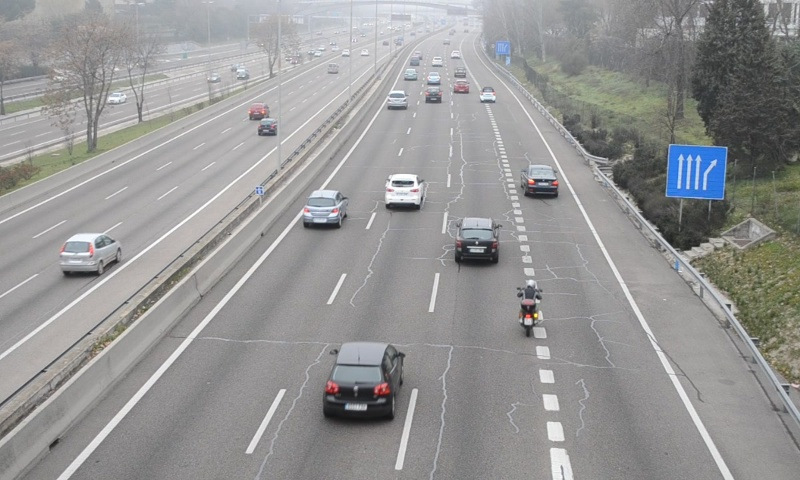car: (323, 343, 402, 418), (454, 217, 500, 263), (302, 190, 346, 224), (384, 174, 424, 207), (521, 165, 558, 194), (387, 89, 408, 110), (479, 86, 495, 104), (426, 86, 442, 104)
motorcycle: (516, 281, 544, 340)
